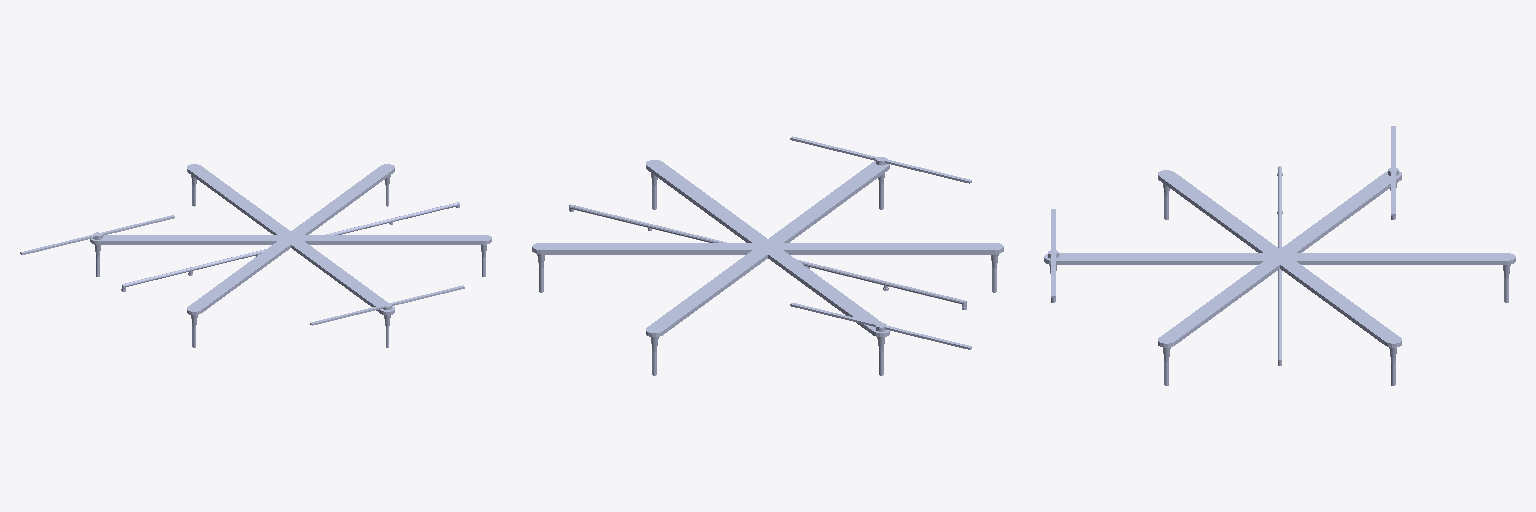
robot.urdf — sprayer_drone:
<?xml version="1.0" encoding="utf-8"?>
<!-- This URDF was automatically created by SolidWorks to URDF Exporter! Originally created by [author] ([email redacted]) 
     Commit Version: 1.6.0-1-g15f4949  Build Version: 1.6.7594.29634
     For more information, please see http://wiki.ros.org/sw_urdf_exporter -->
<robot
  name="sprayer_drone">
  <link
    name="base_link">
    <inertial>
      <origin
        xyz="-0.00014044 6.4053E-09 -0.0029784"
        rpy="0 0 0" />
      <mass
        value="1.4013" />
      <inertia
        ixx="0.015164"
        ixy="-9.9515E-10"
        ixz="-6.3449E-10"
        iyy="0.01771"
        iyz="1.0724E-11"
        izz="0.032757" />
    </inertial>
    <visual>
      <origin
        xyz="0 0 0"
        rpy="0 0 0" />
      <geometry>
        <mesh
          filename="package://sprayer_drone/meshes/base_link.STL" />
      </geometry>
      <material
        name="">
        <color
          rgba="0.79216 0.81961 0.93333 1" />
      </material>
    </visual>
    <collision>
      <origin
        xyz="0 0 0"
        rpy="0 0 0" />
      <geometry>
        <mesh
          filename="package://sprayer_drone/meshes/base_link.STL" />
      </geometry>
    </collision>
  </link>
  <link
    name="prop1">
    <inertial>
      <origin
        xyz="1.1102E-16 0.0070378 0"
        rpy="0 0 0" />
      <mass
        value="0.026553" />
      <inertia
        ixx="4.8335E-07"
        ixy="-6.0245E-22"
        ixz="-1.1374E-21"
        iyy="0.00039871"
        iyz="5.8633E-23"
        izz="0.00039845" />
    </inertial>
    <visual>
      <origin
        xyz="0 0 0"
        rpy="0 0 0" />
      <geometry>
        <mesh
          filename="package://sprayer_drone/meshes/prop1.STL" />
      </geometry>
      <material
        name="">
        <color
          rgba="0.79216 0.81961 0.93333 1" />
      </material>
    </visual>
    <collision>
      <origin
        xyz="0 0 0"
        rpy="0 0 0" />
      <geometry>
        <mesh
          filename="package://sprayer_drone/meshes/prop1.STL" />
      </geometry>
    </collision>
  </link>
  <joint
    name="motor1"
    type="continuous">
    <origin
      xyz="-0.43301 -0.25 0.0044862"
      rpy="1.5708 0 0" />
    <parent
      link="base_link" />
    <child
      link="prop1" />
    <axis
      xyz="0 1 0" />
  </joint>
  <link
    name="prop2">
    <inertial>
      <origin
        xyz="5.5511E-17 0.0070378 0"
        rpy="0 0 0" />
      <mass
        value="0.026553" />
      <inertia
        ixx="4.8335E-07"
        ixy="-2.068E-22"
        ixz="-3.6786E-21"
        iyy="0.00039871"
        iyz="-1.2047E-22"
        izz="0.00039845" />
    </inertial>
    <visual>
      <origin
        xyz="0 0 0"
        rpy="0 0 0" />
      <geometry>
        <mesh
          filename="package://sprayer_drone/meshes/prop2.STL" />
      </geometry>
      <material
        name="">
        <color
          rgba="0.79216 0.81961 0.93333 1" />
      </material>
    </visual>
    <collision>
      <origin
        xyz="0 0 0"
        rpy="0 0 0" />
      <geometry>
        <mesh
          filename="package://sprayer_drone/meshes/prop2.STL" />
      </geometry>
    </collision>
  </link>
  <joint
    name="motor2"
    type="continuous">
    <origin
      xyz="-0.43301 0.25 0.0052997"
      rpy="1.5708 0 0" />
    <parent
      link="base_link" />
    <child
      link="prop2" />
    <axis
      xyz="0 1 0" />
  </joint>
  <link
    name="prop3">
    <inertial>
      <origin
        xyz="4.7536E-17 0.0070378 0"
        rpy="0 0 0" />
      <mass
        value="0.026553" />
      <inertia
        ixx="4.8335E-07"
        ixy="1.3267E-22"
        ixz="-1.1374E-21"
        iyy="0.00039871"
        iyz="3.0132E-23"
        izz="0.00039845" />
    </inertial>
    <visual>
      <origin
        xyz="0 0 0"
        rpy="0 0 0" />
      <geometry>
        <mesh
          filename="package://sprayer_drone/meshes/prop3.STL" />
      </geometry>
      <material
        name="">
        <color
          rgba="0.79216 0.81961 0.93333 1" />
      </material>
    </visual>
    <collision>
      <origin
        xyz="0 0 0"
        rpy="0 0 0" />
      <geometry>
        <mesh
          filename="package://sprayer_drone/meshes/prop3.STL" />
      </geometry>
    </collision>
  </link>
  <joint
    name="motor3"
    type="continuous">
    <origin
      xyz="0 0.5 0.005"
      rpy="1.5708 0 0" />
    <parent
      link="base_link" />
    <child
      link="prop3" />
    <axis
      xyz="0 1 0" />
  </joint>
  <link
    name="prop4">
    <inertial>
      <origin
        xyz="0 0.0070378 5.5511E-17"
        rpy="0 0 0" />
      <mass
        value="0.026553" />
      <inertia
        ixx="4.8335E-07"
        ixy="-6.6984E-22"
        ixz="-3.9291E-21"
        iyy="0.00039871"
        iyz="-2.9509E-24"
        izz="0.00039845" />
    </inertial>
    <visual>
      <origin
        xyz="0 0 0"
        rpy="0 0 0" />
      <geometry>
        <mesh
          filename="package://sprayer_drone/meshes/prop4.STL" />
      </geometry>
      <material
        name="">
        <color
          rgba="0.79216 0.81961 0.93333 1" />
      </material>
    </visual>
    <collision>
      <origin
        xyz="0 0 0"
        rpy="0 0 0" />
      <geometry>
        <mesh
          filename="package://sprayer_drone/meshes/prop4.STL" />
      </geometry>
    </collision>
  </link>
  <joint
    name="motor4"
    type="continuous">
    <origin
      xyz="0.43301 0.25 0.005"
      rpy="1.5708 0 0" />
    <parent
      link="base_link" />
    <child
      link="prop4" />
    <axis
      xyz="0 1 0" />
  </joint>
  <link
    name="prop5">
    <inertial>
      <origin
        xyz="0 0.0070378 0"
        rpy="0 0 0" />
      <mass
        value="0.026553" />
      <inertia
        ixx="4.8335E-07"
        ixy="-6.2935E-22"
        ixz="-3.9291E-21"
        iyy="0.00039871"
        iyz="-1.9037E-23"
        izz="0.00039845" />
    </inertial>
    <visual>
      <origin
        xyz="0 0 0"
        rpy="0 0 0" />
      <geometry>
        <mesh
          filename="package://sprayer_drone/meshes/prop5.STL" />
      </geometry>
      <material
        name="">
        <color
          rgba="0.79216 0.81961 0.93333 1" />
      </material>
    </visual>
    <collision>
      <origin
        xyz="0 0 0"
        rpy="0 0 0" />
      <geometry>
        <mesh
          filename="package://sprayer_drone/meshes/prop5.STL" />
      </geometry>
    </collision>
  </link>
  <joint
    name="motor5"
    type="continuous">
    <origin
      xyz="0.43301 -0.25 0.0059028"
      rpy="1.5708 0 0" />
    <parent
      link="base_link" />
    <child
      link="prop5" />
    <axis
      xyz="0 1 0" />
  </joint>
  <link
    name="prop6">
    <inertial>
      <origin
        xyz="4.7536E-17 0.0070378 0"
        rpy="0 0 0" />
      <mass
        value="0.026553" />
      <inertia
        ixx="4.8335E-07"
        ixy="1.8886E-22"
        ixz="-1.1374E-21"
        iyy="0.00039871"
        iyz="2.9972E-23"
        izz="0.00039845" />
    </inertial>
    <visual>
      <origin
        xyz="0 0 0"
        rpy="0 0 0" />
      <geometry>
        <mesh
          filename="package://sprayer_drone/meshes/prop6.STL" />
      </geometry>
      <material
        name="">
        <color
          rgba="0.79216 0.81961 0.93333 1" />
      </material>
    </visual>
    <collision>
      <origin
        xyz="0 0 0"
        rpy="0 0 0" />
      <geometry>
        <mesh
          filename="package://sprayer_drone/meshes/prop6.STL" />
      </geometry>
    </collision>
  </link>
  <joint
    name="motor6"
    type="continuous">
    <origin
      xyz="0 -0.5 0.0060731"
      rpy="1.5708 0 0" />
    <parent
      link="base_link" />
    <child
      link="prop6" />
    <axis
      xyz="0 1 0" />
  </joint>
</robot>

--- Facts derived from the render (not from the file) ---
The picture shows the robot from 3 angles, left to right: view 1: azimuth 30°, elevation 25°; view 2: azimuth 150°, elevation 25°; view 3: azimuth 270°, elevation 25°; orthographic projection.
Robot: sprayer_drone — 7 links, 6 joints (6 continuous); root link base_link; default pose: every joint at zero.
Links seen in each view (by area): view 1: base_link, prop2, prop6; view 2: base_link, prop2, prop6; view 3: base_link.
Link boxes in pixels (x1,y1,x2,y2): base_link: [90, 164, 491, 347]; prop2: [20, 215, 174, 254]; prop6: [310, 285, 464, 325]; base_link: [532, 160, 1003, 375]; prop2: [790, 303, 971, 349]; prop6: [790, 136, 971, 183]; base_link: [1044, 166, 1515, 385].
Bounding box of the posed robot: 1.17 × 1.04 × 0.1211 m (x, y, z).
3 mesh visuals loaded from 7 distinct referenced files (3 binary STL); not drawn: 4 (reference not matched to a file when rendering).